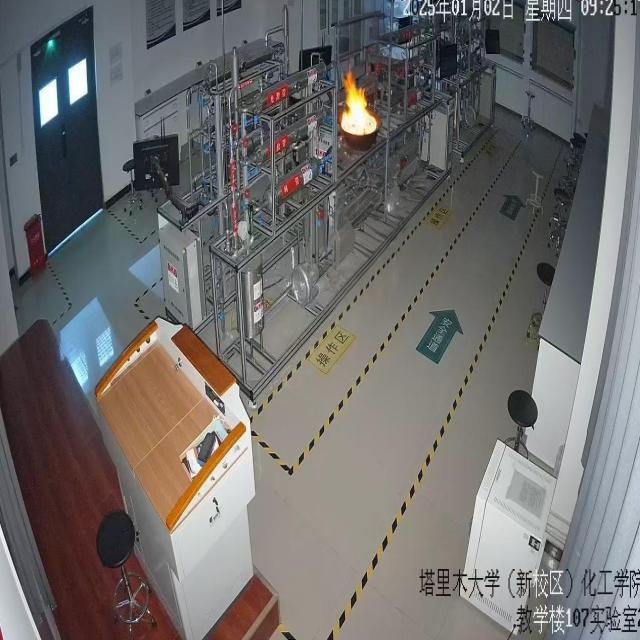smoke: (340, 68, 378, 138)
